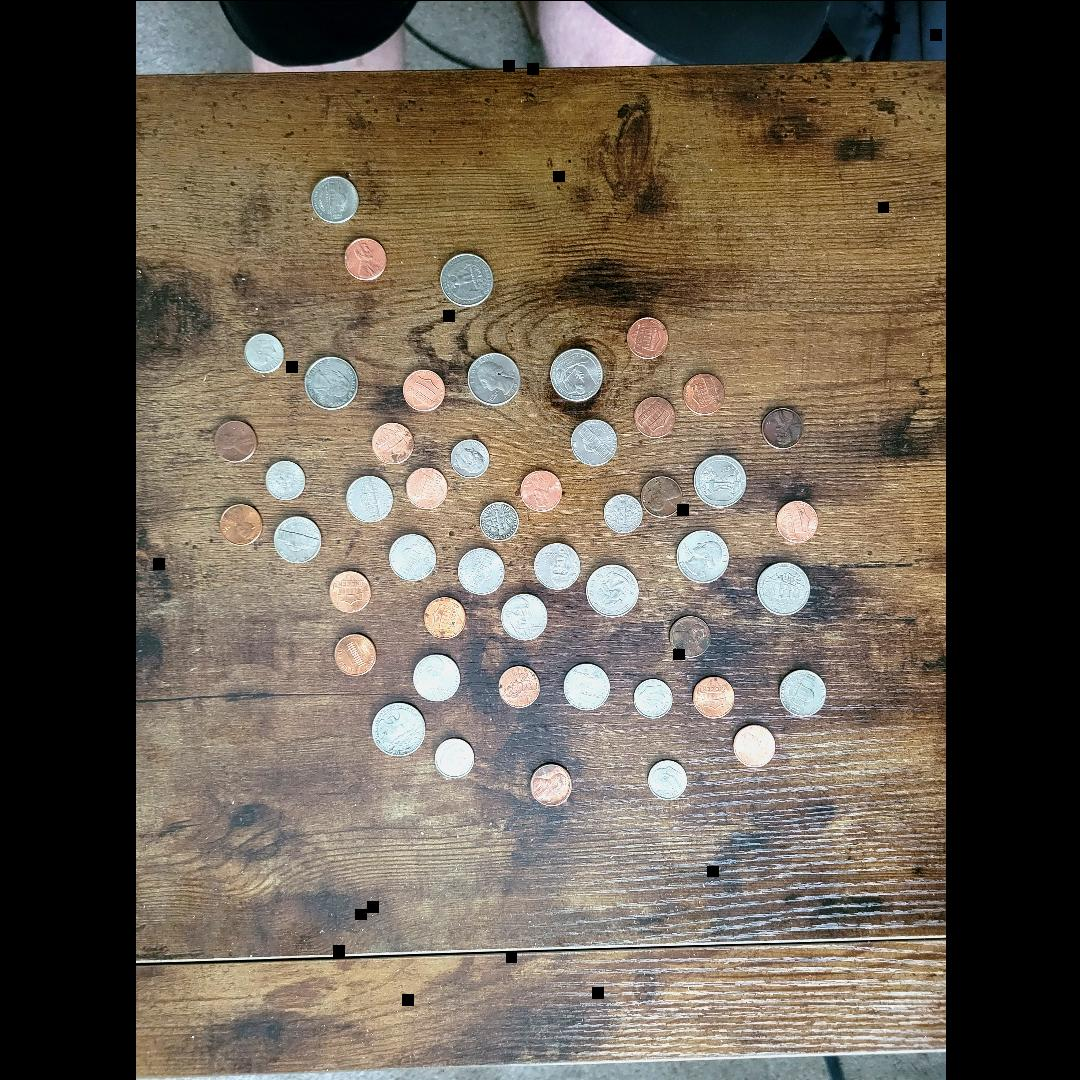Dime: (264, 459, 306, 501), (432, 736, 474, 778), (646, 758, 686, 800), (478, 499, 518, 540), (243, 332, 283, 373), (601, 493, 641, 532), (632, 678, 672, 716), (448, 438, 488, 476)
Nickel: (410, 650, 460, 702), (270, 514, 322, 564), (386, 532, 437, 581), (309, 174, 359, 222), (530, 540, 579, 588), (344, 475, 394, 522), (570, 418, 616, 466), (563, 661, 609, 709), (500, 593, 546, 639), (778, 668, 824, 714), (456, 548, 504, 592)
Penny: (342, 235, 388, 282), (494, 662, 540, 708), (401, 366, 445, 412), (526, 763, 572, 806), (332, 633, 376, 677), (404, 464, 448, 508), (691, 673, 733, 719), (625, 315, 667, 360), (327, 566, 369, 610), (423, 595, 465, 639), (632, 394, 674, 438), (519, 468, 561, 512), (218, 499, 260, 543), (733, 724, 776, 766), (372, 420, 413, 464), (668, 616, 710, 658), (762, 405, 802, 449), (776, 498, 816, 542), (214, 419, 256, 460), (641, 473, 681, 516), (681, 374, 723, 414)
Quarter: (368, 701, 426, 755), (438, 250, 492, 306), (301, 354, 357, 408), (585, 562, 639, 616), (755, 560, 809, 614), (674, 528, 728, 581), (550, 347, 602, 401), (466, 352, 520, 404), (694, 453, 744, 506)
